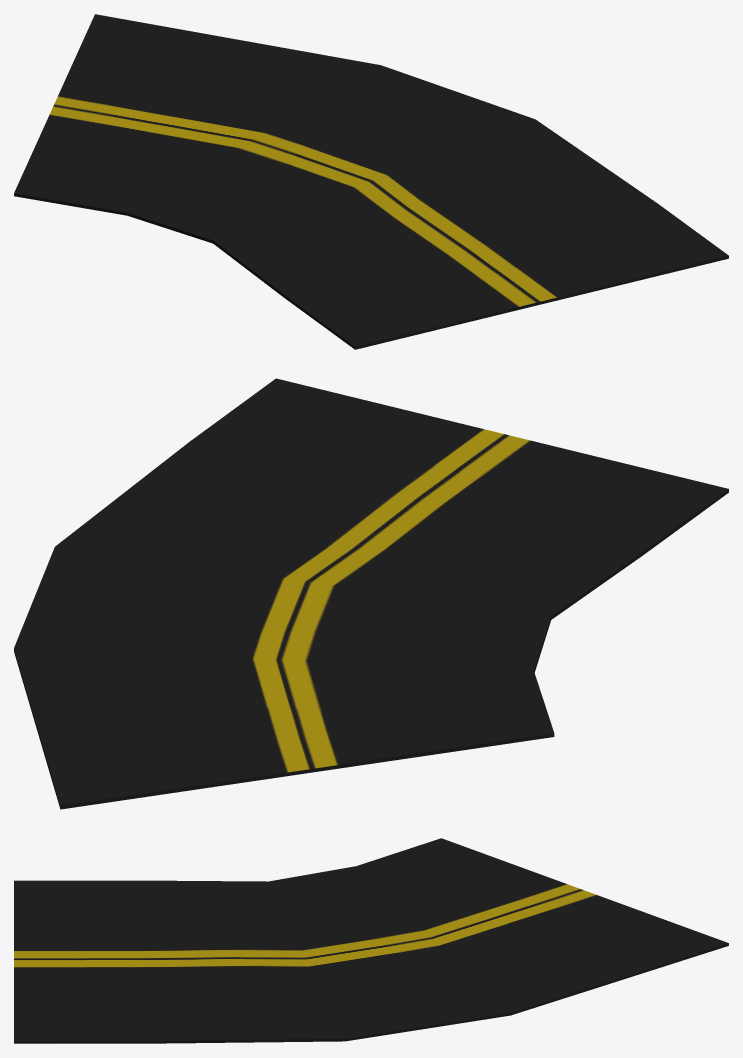
The model's file is mainroad3.fbx.
The picture shows the model from 3 angles, top to bottom: view 1: azimuth 30°, elevation 25°; view 2: azimuth 150°, elevation 25°; view 3: azimuth 270°, elevation 25°; orthographic projection. The views are drawn at different scales.
Visible parts, largest first — view 1: pCube59; view 2: pCube59; view 3: pCube59.
Boxes of the visible parts, x1,y1,x2,y2 form: pCube59: [14, 14, 728, 349]; pCube59: [14, 378, 728, 809]; pCube59: [14, 838, 728, 1043].
Bounding box in the file's own units: 13.42 × 0.0815 × 19.98.
Materials: 1 (1 with a texture image).
